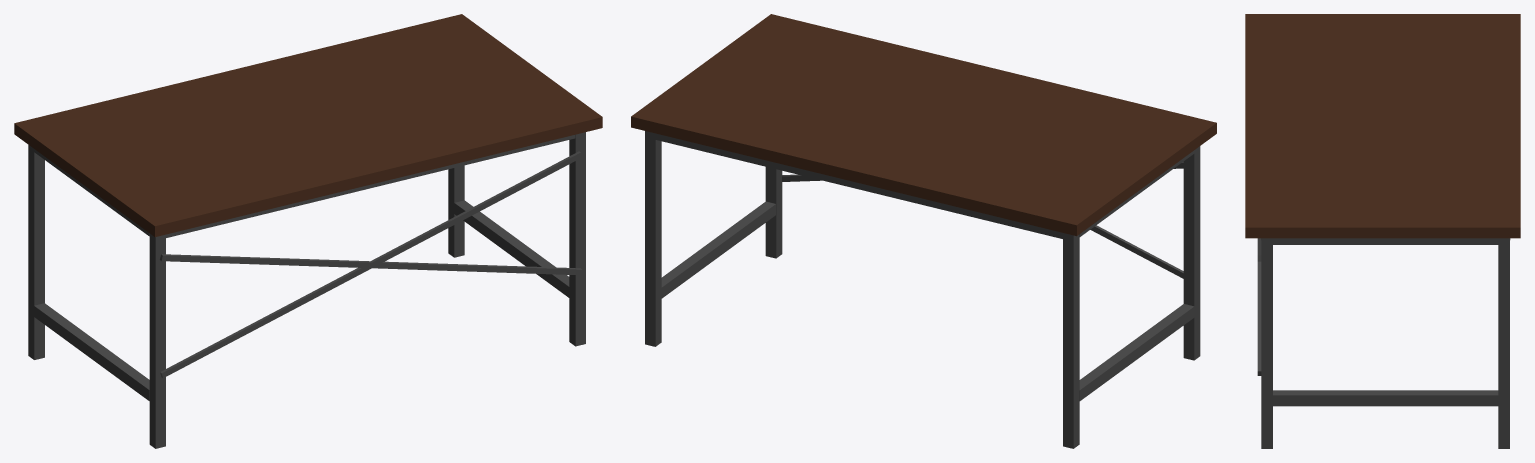
The model's file is desk.fbx.
3 views of the same model, side by side, from view 1: azimuth 30°, elevation 25°; view 2: azimuth 150°, elevation 25°; view 3: azimuth 270°, elevation 25° (orthographic). The views are drawn at different scales.
Visible parts, largest first — view 1: 平面; view 2: 平面; view 3: 平面.
Boxes of the visible parts, x1,y1,x2,y2 form: 平面: (14,14,602,448); 平面: (631,14,1216,448); 平面: (1245,14,1520,448).
Size of the model in its own units: 8.53 by 4.2 by 4.64.
